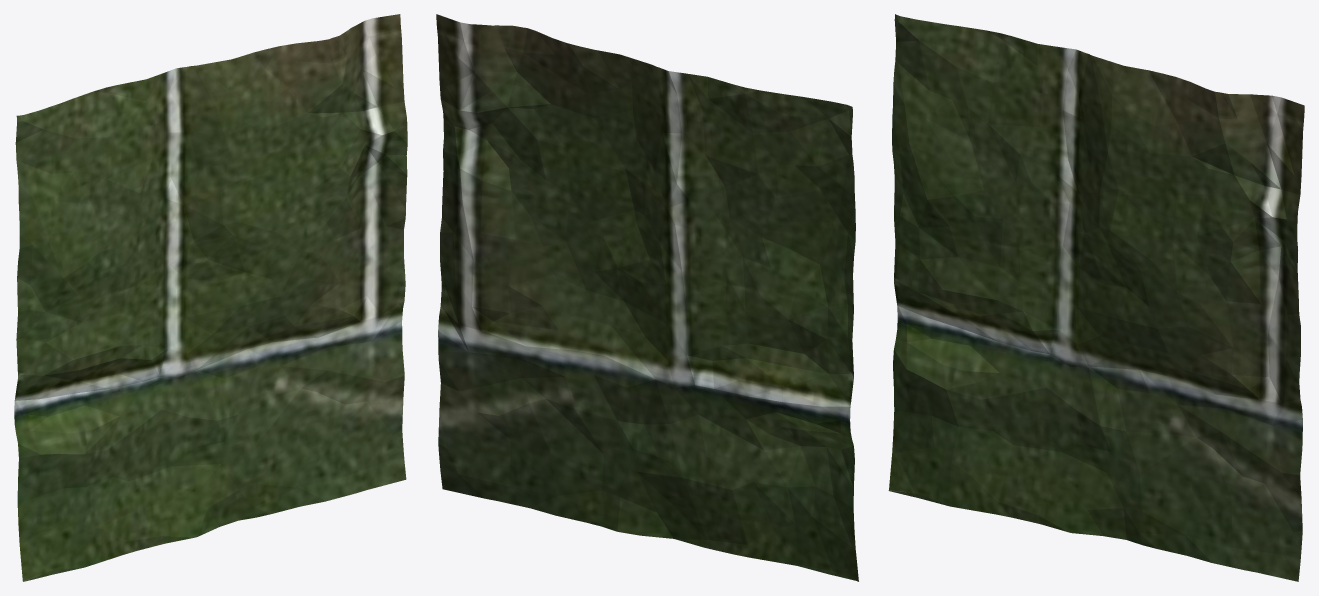
Rendered from tile_5_8_28_tex.obj.
The picture shows the model from 3 angles, left to right: view 1: azimuth 30°, elevation 25°; view 2: azimuth 150°, elevation 25°; view 3: azimuth 330°, elevation 25°; orthographic projection. The views are drawn at different scales.
Parts seen in each view (by area): view 1: obj_0; view 2: obj_0; view 3: obj_0.
Part boxes in pixels (left/top/right/bottom): obj_0: left=14, top=14, right=407, bottom=581; obj_0: left=436, top=14, right=858, bottom=581; obj_0: left=888, top=14, right=1304, bottom=581.
Bounding box in the file's own units: 5.01 × 5.64 × 0.4339.
1 material, 1 textured.
